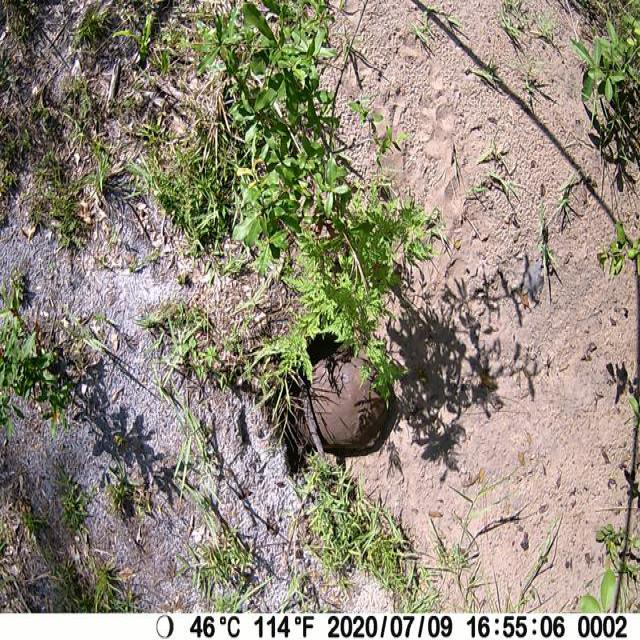tortoise: (297, 346, 389, 454)
